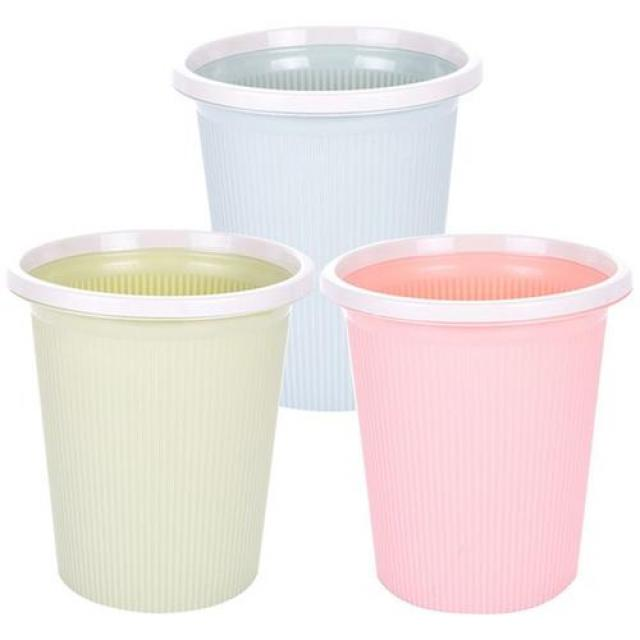Dustbin: (167, 18, 489, 418), (2, 221, 319, 619), (317, 228, 638, 620)
